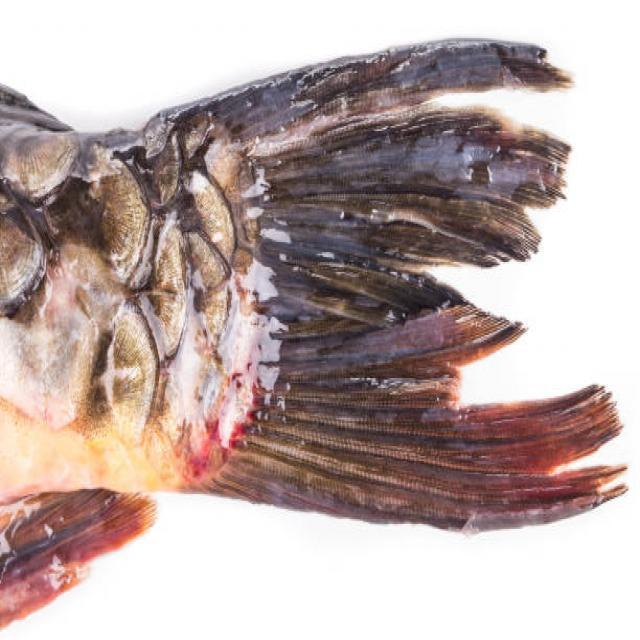EUS Disease: (0, 31, 637, 627)
